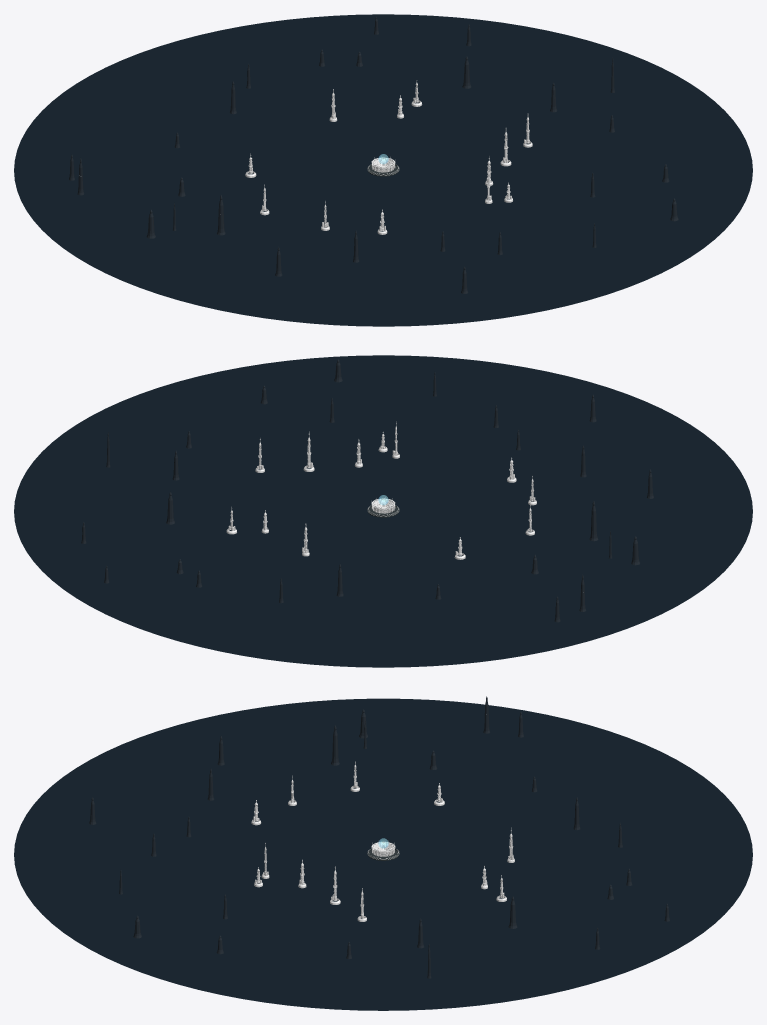
The model's file is zanarkand3.glb.
3 renders of one model, top to bottom at view 1: azimuth 30°, elevation 25°; view 2: azimuth 150°, elevation 25°; view 3: azimuth 270°, elevation 25°, orthographic.
Parts seen in each view (by area): view 1: Sea, Far, Stone, Trim; view 2: Sea, Far, Stone, Trim; view 3: Sea, Far, Stone, Trim.
Part boxes in pixels (box(x1,y1,x2,y2)): Sea: box(14, 14, 752, 326); Far: box(69, 17, 678, 293); Stone: box(245, 80, 532, 234); Trim: box(246, 82, 531, 231); Sea: box(14, 355, 752, 667); Far: box(81, 359, 653, 622); Stone: box(226, 423, 536, 559); Trim: box(227, 423, 536, 556); Sea: box(14, 698, 752, 1010); Far: box(89, 696, 669, 978); Stone: box(251, 761, 514, 921); Trim: box(252, 762, 513, 919).
Bounding box in the file's own units: 7480 × 452 × 7480.
